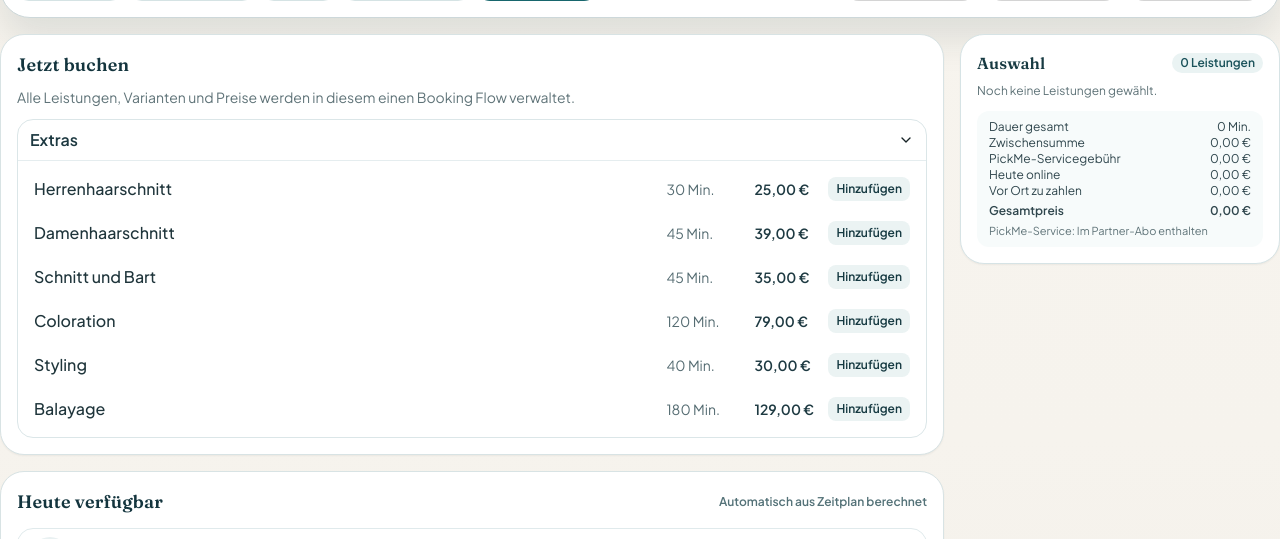
Test case: SalonDetailPage booking flow › keeps base service unique after selecting it
(page scrolled)
Step 1. Click the button "Hinzufügen" next to "25,00 €" → (869, 189), box [828,177,910,201]
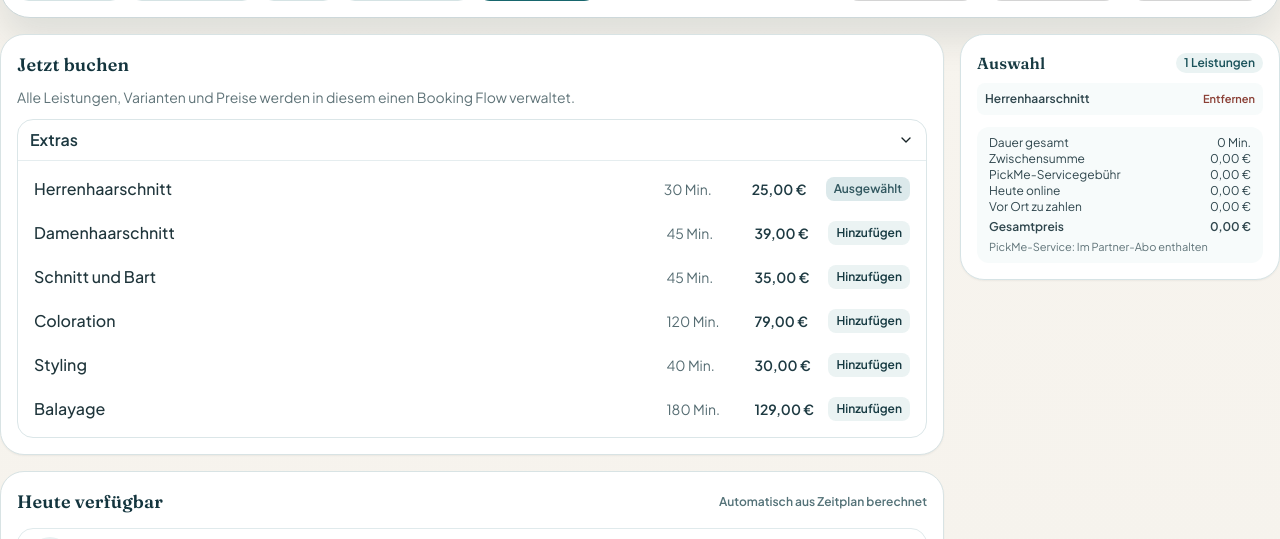
Expected: the element "Auswahl" is shown, [960,34,1279,280]
Expected: the button "Entfernen" is shown, [1203,91,1255,107]
Expected: the text "1 Leistungen" is shown, [1176,53,1263,73]
